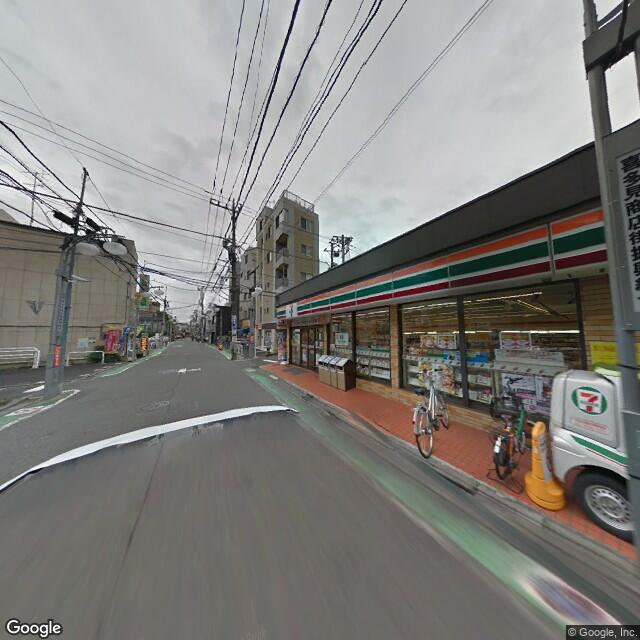7-eleven: (275, 204, 611, 322), (575, 383, 603, 419)
